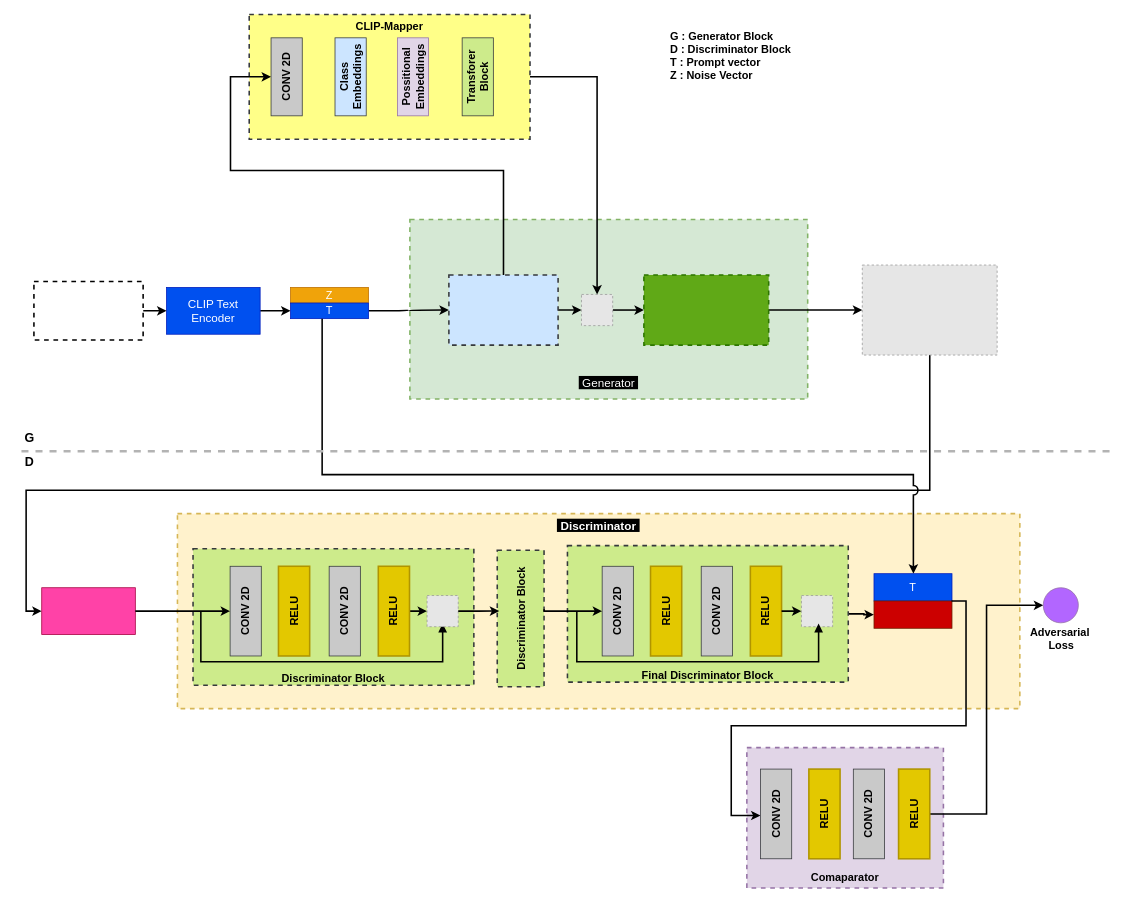
The diagram is 1129 pixels wide and 902 high, and some of its shapes have lost their labels. Grey dashed boxes stand in for pictures. The shapes that lost their labels are listed below. From the top down, each one's centre as x and y in pixels, then its label:
the point at 88,310: a tiny bird wth yellow belly and light gray feathers
the point at 503,310: CLIP-Adapter
the point at 706,310: Image Generator
the point at 88,611: CLIP Image Encoder
the point at 912,614: Extracted Features
